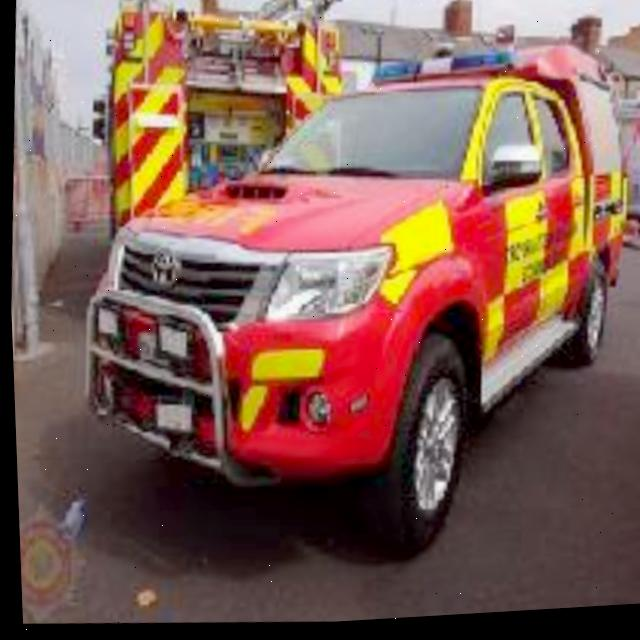emergency: (55, 19, 640, 591), (86, 0, 361, 318)
